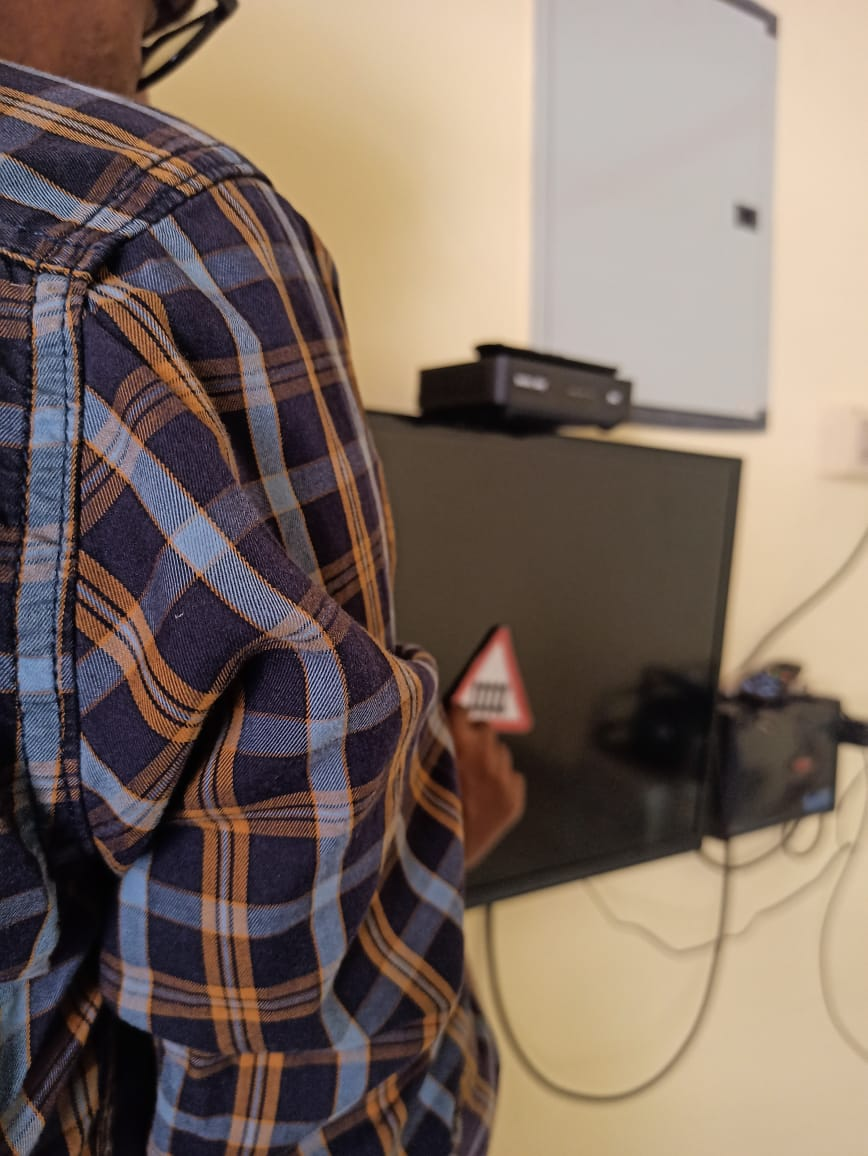GUARDED LEVEL CROSSING: (438, 619, 554, 739)
